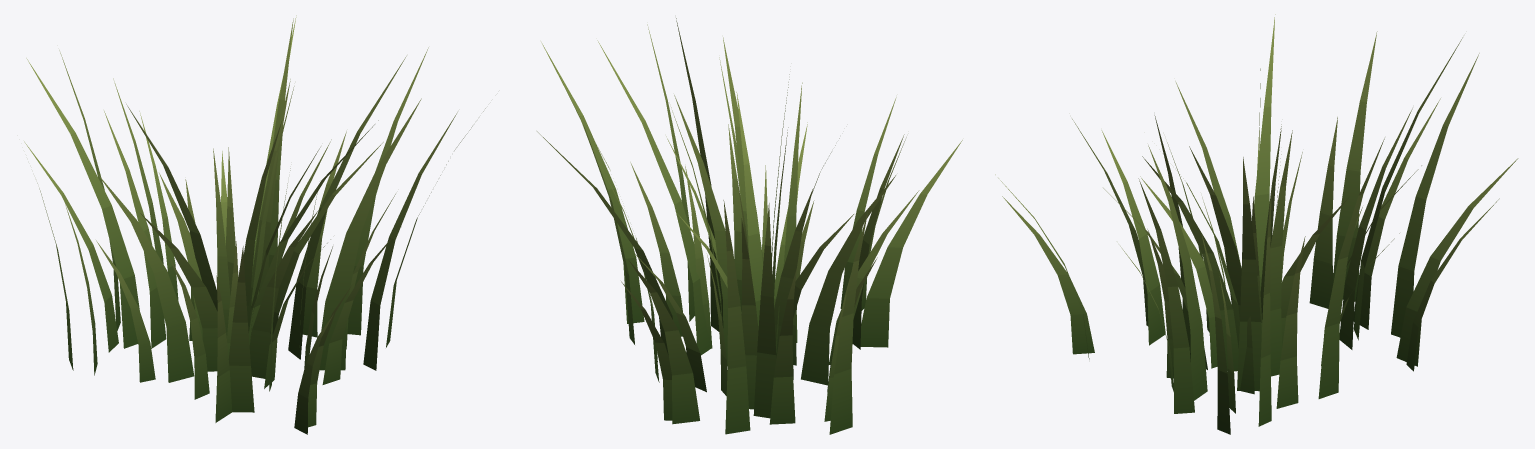
Rendered from SM_Grass.fbx.
The picture shows the model from 3 angles, left to right: view 1: azimuth 30°, elevation 25°; view 2: azimuth 150°, elevation 25°; view 3: azimuth 270°, elevation 25°; orthographic projection. The views are drawn at different scales.
Visible parts, largest first — view 1: SM_Grass; view 2: SM_Grass; view 3: SM_Grass.
Boxes of the visible parts, x1,y1,x2,y2 form: SM_Grass: [24, 15, 485, 434]; SM_Grass: [537, 18, 962, 434]; SM_Grass: [995, 14, 1518, 434].
Size of the model in its own units: 0.9575 by 0.6384 by 1.03.
